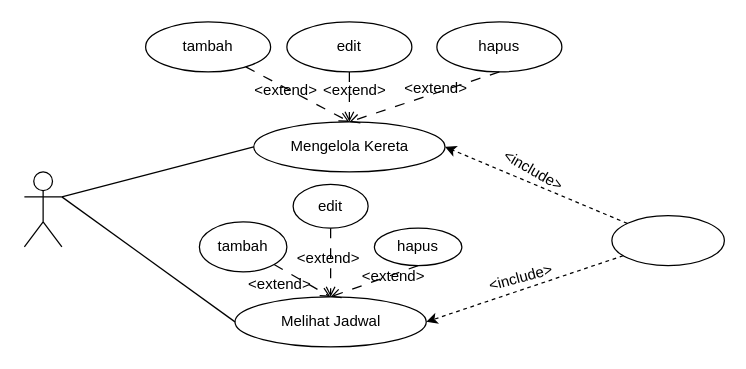
Image size: 746x369. Some labels were removed from this diagram. The shapes that lost their labels are listed below. From the top down, each one's centre as x and y in pixels, then its label:
(42,209): Admin
(667,240): Login
